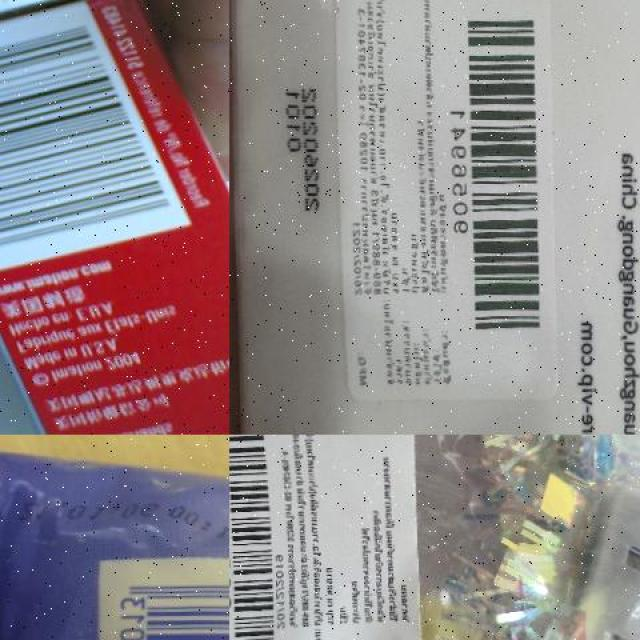Barcode: (0, 0, 194, 281), (446, 0, 548, 341), (95, 554, 229, 640), (229, 434, 278, 640)
